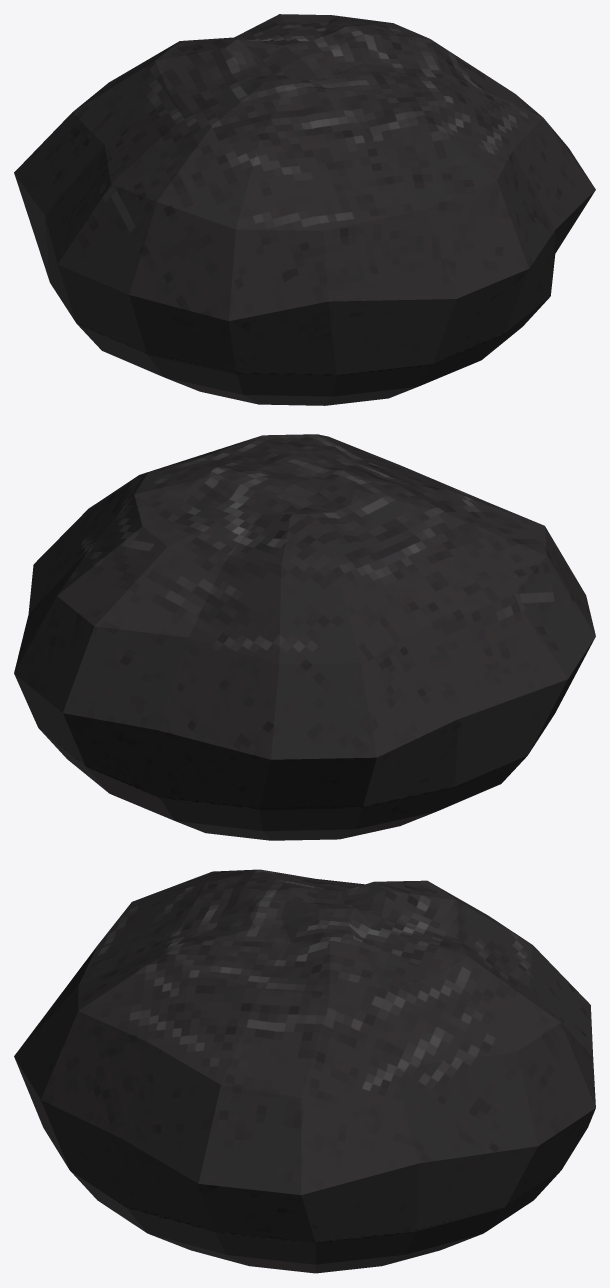
The model's file is Hairball.fbx.
The picture shows the model from 3 angles, top to bottom: view 1: azimuth 30°, elevation 25°; view 2: azimuth 150°, elevation 25°; view 3: azimuth 270°, elevation 25°; orthographic projection. The views are drawn at different scales.
Visible parts, largest first — view 1: Hairball; view 2: Hairball; view 3: Hairball.
Part boxes in pixels (<box>): Hairball: <box>14,14,595,405</box>; Hairball: <box>14,434,595,840</box>; Hairball: <box>14,869,595,1273</box>.
Size of the model in its own units: 127 by 66.08 by 120.
Materials: 1 (1 with a texture image).
